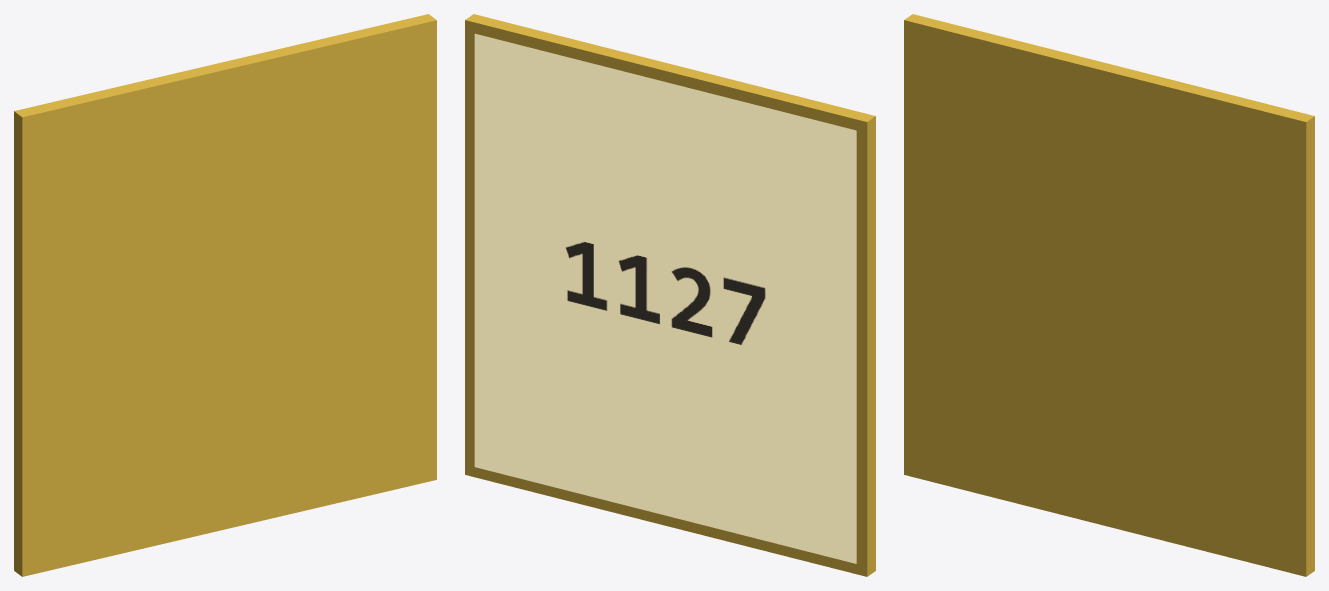
File: memo.glb
3 renders of one model, left to right at view 1: azimuth 30°, elevation 25°; view 2: azimuth 150°, elevation 25°; view 3: azimuth 330°, elevation 25°, orthographic.
Parts seen in each view (by area): view 1: Cube_005; view 2: Cube_005; view 3: Cube_005.
Boxes of the visible parts, x1,y1,x2,y2 form: Cube_005: [14, 14, 436, 576]; Cube_005: [465, 14, 875, 576]; Cube_005: [904, 14, 1314, 576].
Bounding box in the file's own units: 0.2227 × 0.2381 × 0.0121.
2 materials, 1 textured.
